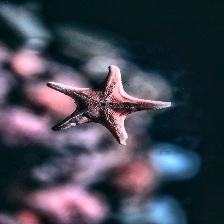starfish: (1, 65, 201, 223)
